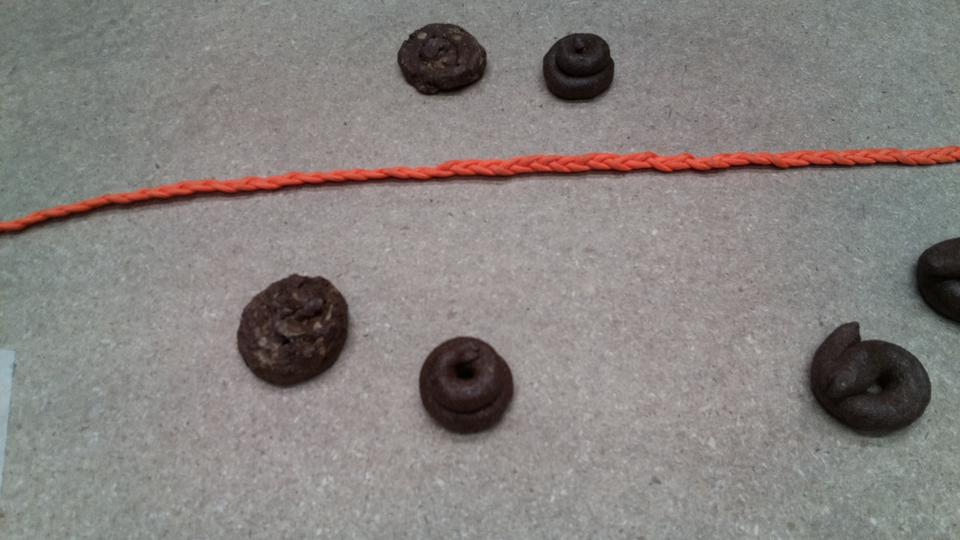poop: (803, 317, 935, 439), (235, 267, 356, 389), (416, 334, 517, 436), (388, 14, 495, 109), (539, 29, 620, 109)
rope: (5, 177, 271, 244), (509, 144, 960, 177), (253, 157, 522, 208)
